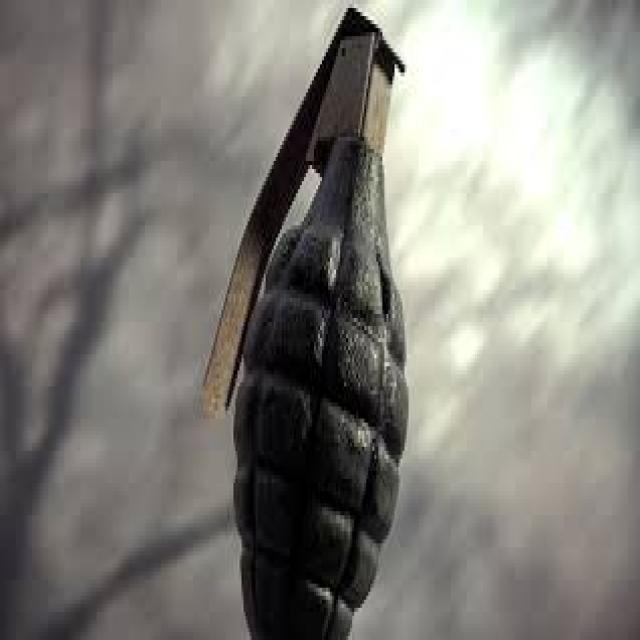grenade: (202, 1, 411, 640)
